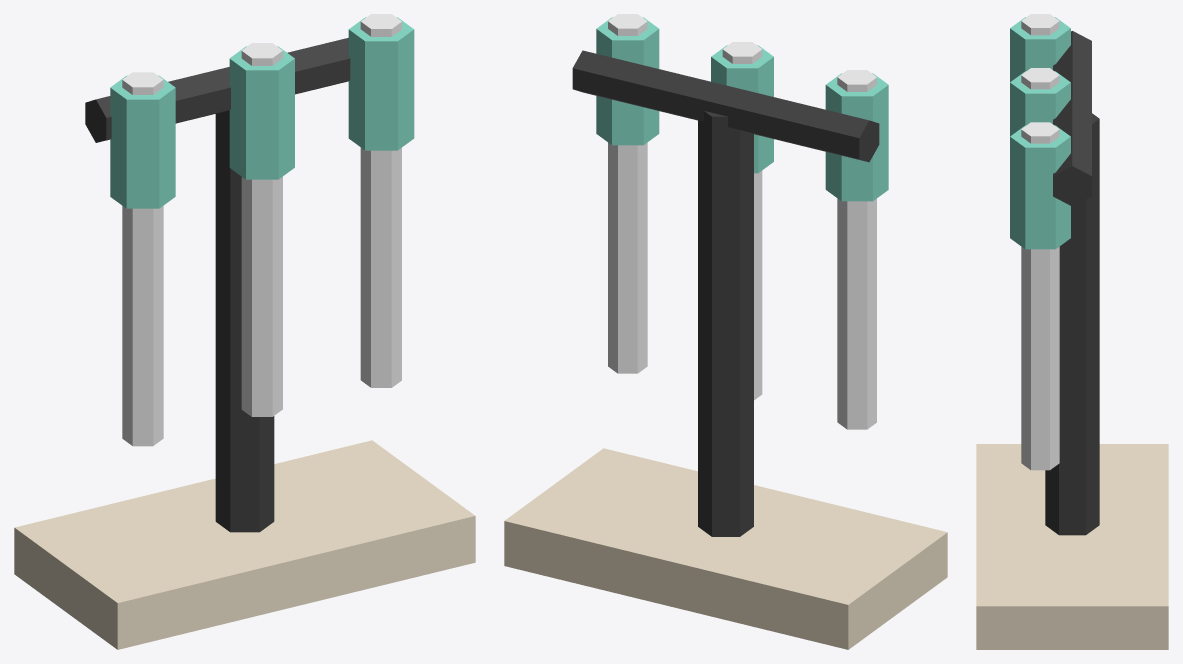
3 views of the same model, side by side, from view 1: azimuth 30°, elevation 25°; view 2: azimuth 150°, elevation 25°; view 3: azimuth 270°, elevation 25° (orthographic). The views are drawn at different scales.
Parts seen in each view (by area): view 1: Foot, Rack, Pipette, Pipette.001, Pipette.002, Grip.002, Grip, Grip.001, Rail; view 2: Foot, Rack, Rail, Pipette, Pipette.002, Grip, Grip.002, Pipette.001, Grip.001; view 3: Foot, Rack, Pipette.002, Grip.002, Rail, Grip.001, Grip, Pipette.001, Pipette.
Boxes of the visible parts, x1=… form: Foot: x1=14, y1=440, x2=475, y2=649; Rack: x1=215, y1=110, x2=274, y2=532; Pipette: x1=122, y1=72, x2=163, y2=446; Pipette.001: x1=241, y1=43, x2=282, y2=416; Pipette.002: x1=360, y1=14, x2=401, y2=387; Grip.002: x1=348, y1=17, x2=414, y2=150; Grip: x1=110, y1=75, x2=175, y2=208; Grip.001: x1=229, y1=46, x2=294, y2=179; Rail: x1=85, y1=38, x2=350, y2=142; Foot: x1=504, y1=448, x2=947, y2=649; Rack: x1=698, y1=111, x2=753, y2=536; Rail: x1=572, y1=50, x2=879, y2=162; Pipette: x1=837, y1=70, x2=876, y2=429; Pipette.002: x1=608, y1=14, x2=647, y2=373; Grip: x1=825, y1=73, x2=888, y2=201; Grip.002: x1=596, y1=17, x2=659, y2=145; Pipette.001: x1=722, y1=42, x2=762, y2=400; Grip.001: x1=711, y1=45, x2=773, y2=173; Foot: x1=976, y1=444, x2=1168, y2=649; Rack: x1=1045, y1=113, x2=1099, y2=535; Pipette.002: x1=1021, y1=122, x2=1059, y2=470; Grip.002: x1=1010, y1=125, x2=1070, y2=249; Rail: x1=1053, y1=31, x2=1091, y2=206; Grip.001: x1=1010, y1=71, x2=1070, y2=136; Grip: x1=1010, y1=17, x2=1070, y2=81; Pipette.001: x1=1021, y1=68, x2=1059, y2=89; Pipette: x1=1021, y1=14, x2=1059, y2=35.
Bounding box in the file's own units: 24 × 34 × 12.
